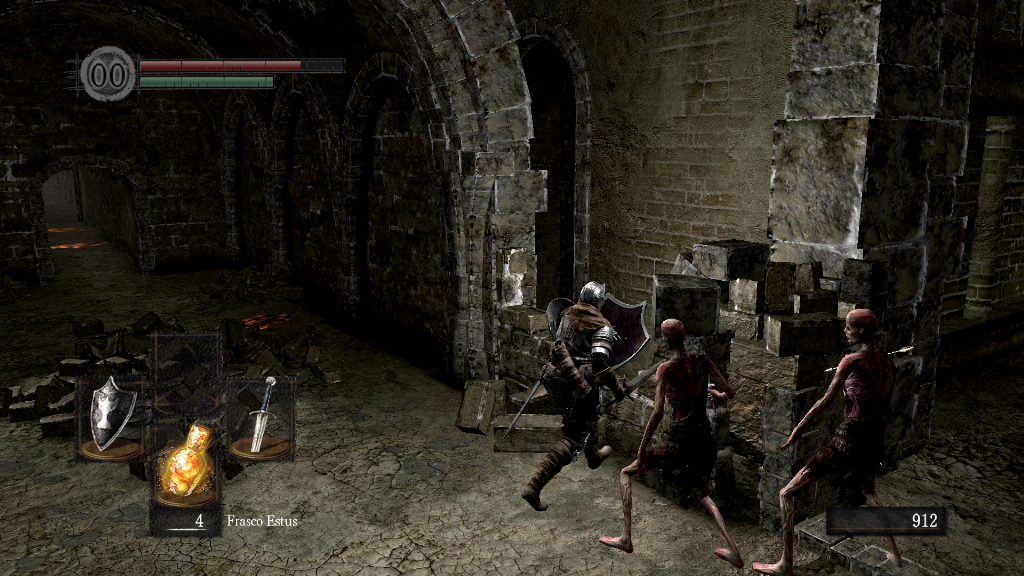health: (138, 58, 343, 71)
hollow: (752, 308, 903, 570), (600, 318, 741, 566)
humanity: (80, 45, 136, 102)
player: (506, 279, 653, 513)
souls: (825, 506, 945, 536)
stamina: (138, 74, 274, 88)
